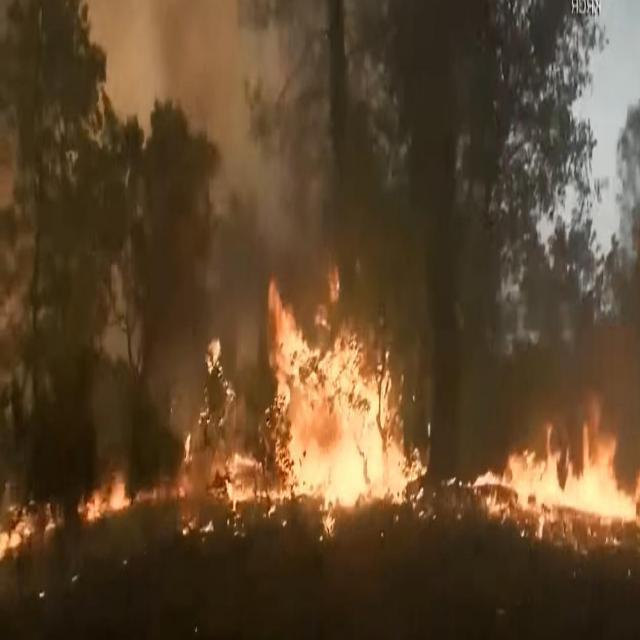fire: (272, 304, 436, 518), (467, 381, 634, 518), (3, 469, 139, 563)
